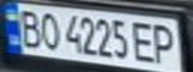2: (93, 15, 115, 58), (78, 12, 96, 57)
4: (60, 11, 81, 54)
5: (109, 16, 133, 61)
B: (15, 6, 45, 48)
E: (130, 19, 160, 64)
O: (36, 9, 63, 52)
P: (148, 20, 181, 65)
